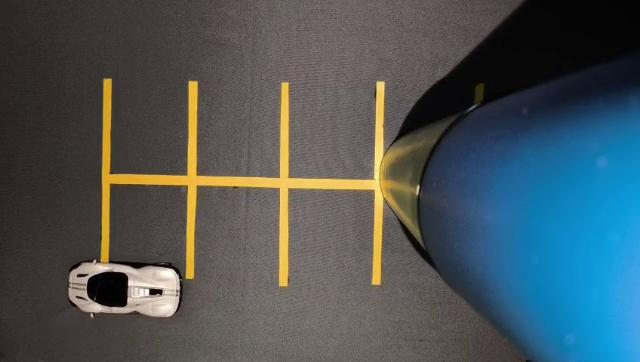toy_car: (62, 226, 210, 350)
